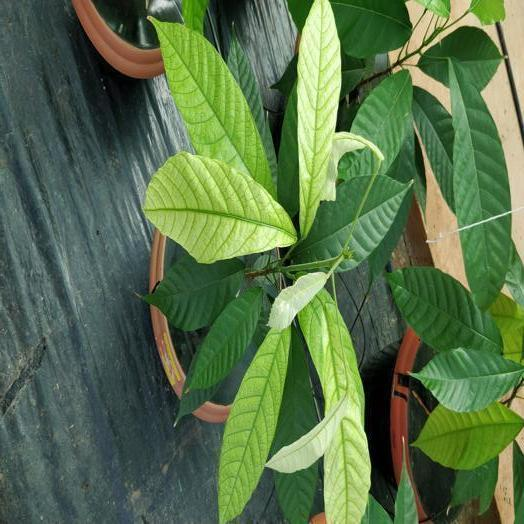Healthy Leaf: (446, 61, 509, 308), (298, 175, 413, 269), (267, 328, 321, 523), (386, 267, 501, 353), (186, 288, 263, 391), (227, 26, 276, 184), (144, 254, 242, 330), (412, 402, 523, 469), (411, 348, 523, 411), (349, 67, 413, 162), (416, 25, 505, 92), (413, 86, 453, 211), (331, 0, 413, 56), (278, 74, 299, 219)
Iron: (153, 18, 275, 196), (143, 152, 296, 263), (299, 289, 370, 523), (218, 327, 290, 523), (298, 0, 340, 237), (265, 398, 348, 473), (321, 132, 383, 199), (268, 272, 328, 327)
